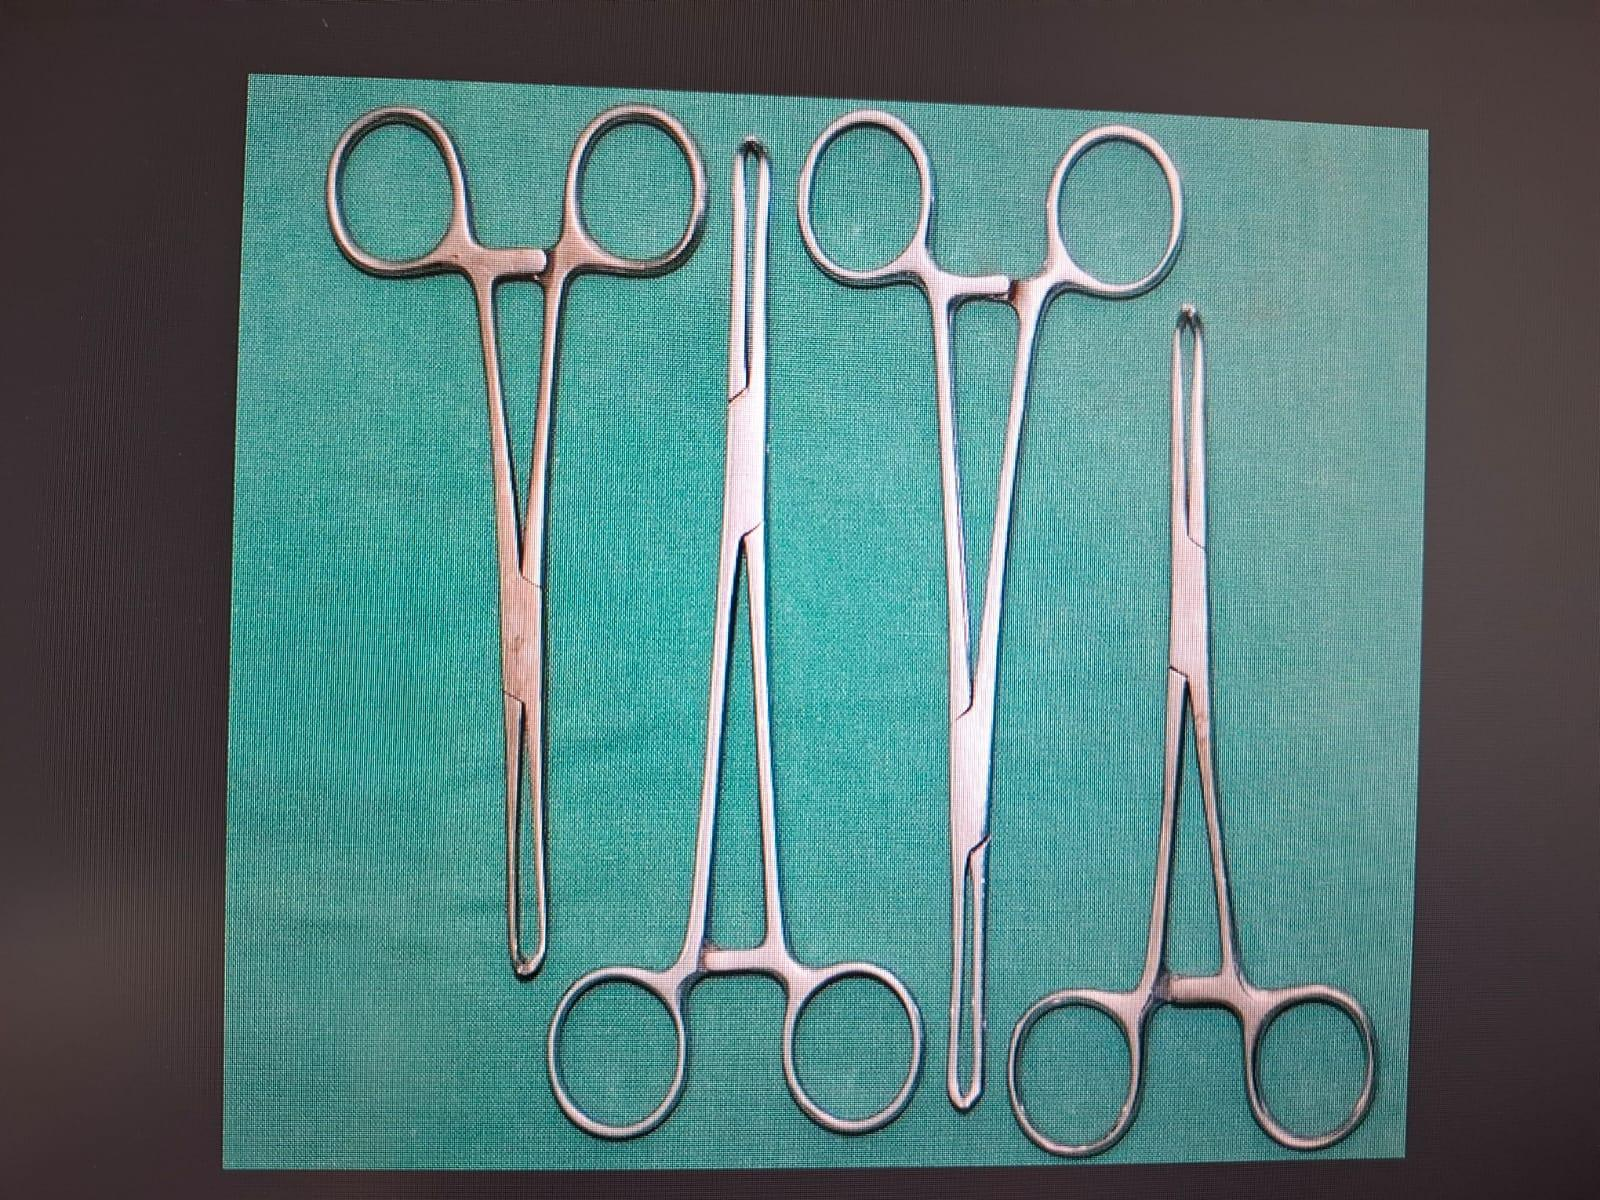Allis Forceps: (530, 130, 936, 1160), (788, 100, 1188, 1130), (962, 296, 1414, 1178), (316, 96, 712, 994)
